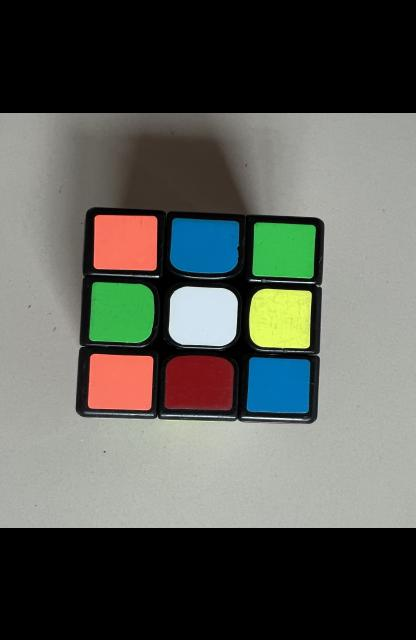Blue: (170, 217, 239, 272), (247, 356, 310, 412)
Green: (89, 281, 154, 342), (253, 221, 316, 278)
Orange: (88, 352, 153, 409), (93, 214, 158, 269)
Red: (164, 355, 234, 409)
White: (168, 285, 238, 346)
Yellow: (249, 288, 312, 348)
